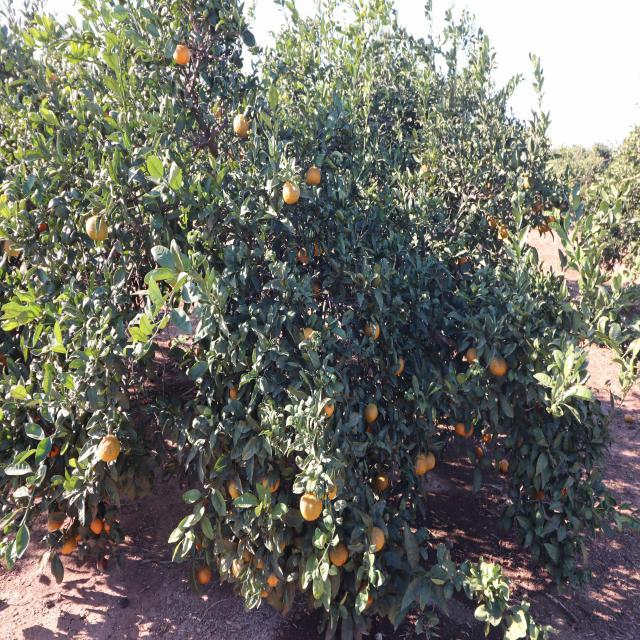Jeruk Sudah Matang: (95, 430, 124, 466), (413, 449, 441, 485), (163, 38, 198, 66), (1, 233, 26, 264), (296, 494, 325, 520), (315, 397, 342, 424), (386, 348, 408, 381), (301, 324, 324, 354), (324, 542, 350, 568), (86, 217, 110, 242), (453, 418, 478, 442), (376, 468, 396, 498), (365, 528, 388, 554), (57, 532, 80, 558), (232, 113, 254, 140), (302, 162, 324, 189), (40, 440, 67, 462), (230, 556, 250, 584), (261, 470, 284, 494), (310, 234, 331, 258), (43, 514, 70, 532), (366, 316, 384, 343), (282, 182, 304, 204), (490, 354, 508, 380), (294, 242, 312, 266), (198, 564, 214, 590), (89, 516, 106, 538), (210, 102, 228, 122), (366, 405, 382, 425), (252, 550, 266, 572), (465, 346, 482, 364), (266, 570, 280, 590), (36, 220, 51, 238), (488, 212, 500, 232), (47, 70, 60, 88), (500, 222, 511, 240), (230, 382, 240, 398), (501, 461, 515, 472)
